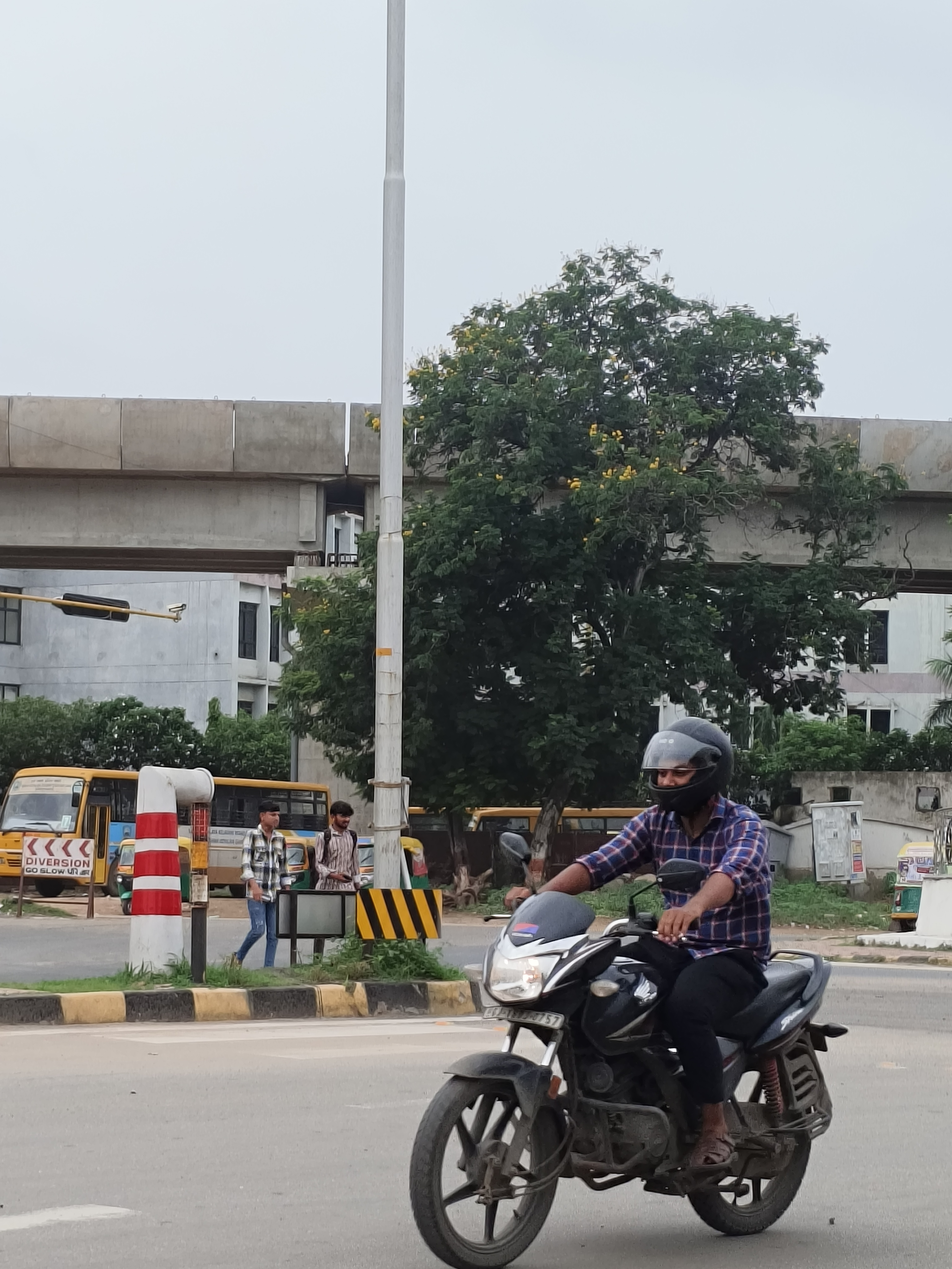BikeWithRider: (402, 709, 852, 1269)
Helmet: (639, 710, 740, 817)
